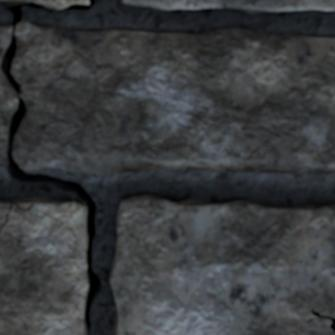brick: (111, 195, 334, 334), (0, 199, 88, 334), (121, 0, 334, 13), (0, 0, 88, 9)
broken_brick: (13, 19, 334, 175), (0, 73, 17, 167), (0, 26, 11, 59)
crack: (0, 2, 102, 332), (311, 308, 334, 332), (68, 0, 94, 10), (289, 35, 318, 40), (71, 30, 102, 32), (157, 31, 174, 34), (193, 33, 200, 36), (328, 37, 334, 40), (180, 32, 188, 34)
